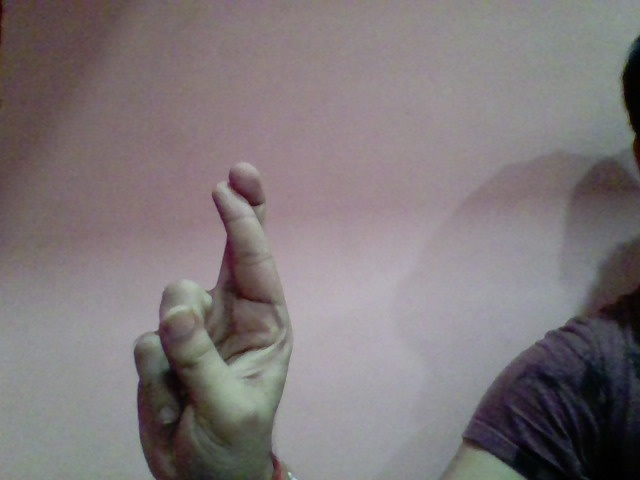r: (134, 155, 305, 469)
